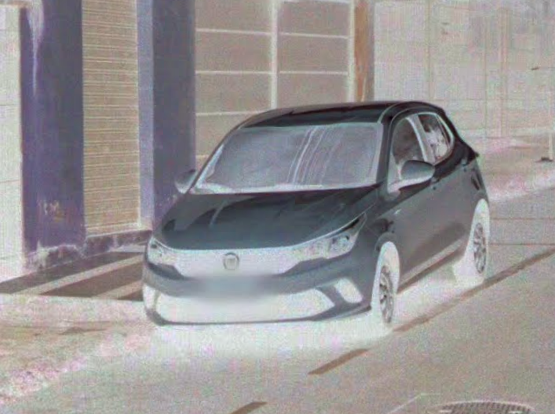car: (137, 90, 496, 343)
